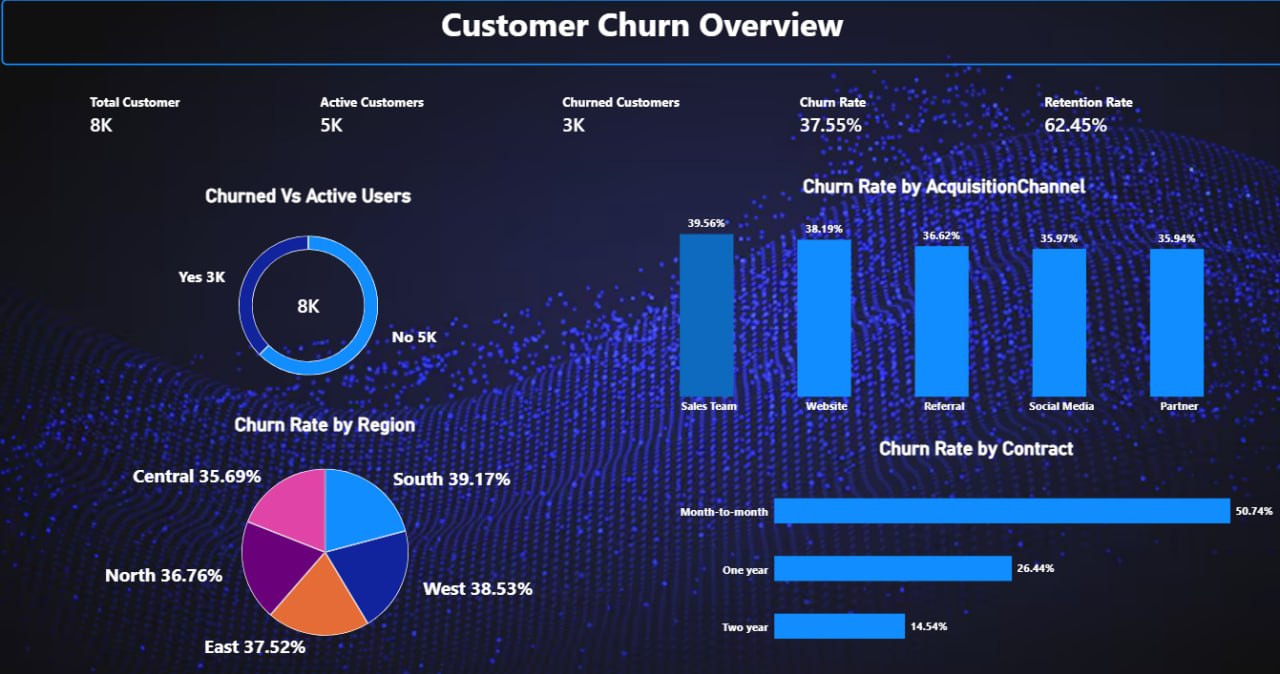

This screenshot's page, from the dashboard's own definition file:
{"tool":"powerbi","page":{"name":"Page 1","canvas":[1900,1008],"ordinal":0},"visuals":[{"type":"textbox","box":[10.4,0,1890,97.8],"z":0},{"type":"cardVisual","fields":{"Data":["DateTable.Total Customer"]},"box":[124.9,96.8,209.2,149.4],"z":1000},{"type":"cardVisual","fields":{"Data":["customer_churn_dataset.Active Customers"]},"box":[464.5,96.8,209,150],"z":2000},{"type":"cardVisual","fields":{"Data":["customer_churn_dataset.Churned Customers"]},"box":[821.7,96.8,209,150],"z":3000},{"type":"cardVisual","fields":{"Data":["customer_churn_dataset.Retention Rate"]},"box":[1530.8,96.8,209,150],"z":4000},{"type":"cardVisual","fields":{"Data":["customer_churn_dataset.Churn Rate"]},"box":[1170.1,96.8,209,150],"z":5000},{"type":"donutChart","title":"Churned Vs Active Users","fields":{"Category":["customer_churn_dataset.Churn"],"Y":["Count(customer_churn_dataset.CustomerID)"]},"box":[0,260.4,925.5,337.8],"z":6000},{"type":"barChart","fields":{"Category":["customer_churn_dataset.Contract"],"Y":["customer_churn_dataset.Churn Rate"]},"box":[992.4,633.5,907.9,366],"z":7000},{"type":"pieChart","fields":{"Category":["customer_churn_dataset.Region"],"Y":["customer_churn_dataset.Churn Rate"]},"box":[24.6,598.3,925.5,390.6],"z":8000},{"type":"columnChart","fields":{"Category":["customer_churn_dataset.AcquisitionChannel"],"Y":["customer_churn_dataset.Churn Rate"]},"box":[925.5,246.3,950.2,387.1],"z":9000}]}

Visuals, with their boxes in screenshot pixels (x1, y1, x2, y2), scaled from the page's 1900x1008 canvas onto the 1280x674 screenshot:
textbox: x1=7 y1=0 x2=1279 y2=65
cardVisual - DateTable.Total Customer: x1=84 y1=65 x2=225 y2=165
cardVisual - customer_churn_dataset.Active Customers: x1=313 y1=65 x2=454 y2=165
cardVisual - customer_churn_dataset.Churned Customers: x1=554 y1=65 x2=694 y2=165
cardVisual - customer_churn_dataset.Retention Rate: x1=1031 y1=65 x2=1172 y2=165
cardVisual - customer_churn_dataset.Churn Rate: x1=788 y1=65 x2=929 y2=165
"Churned Vs Active Users" donutChart: x1=0 y1=174 x2=623 y2=400
barChart - customer_churn_dataset.Contract x customer_churn_dataset.Churn Rate: x1=669 y1=424 x2=1279 y2=668
pieChart - customer_churn_dataset.Region x customer_churn_dataset.Churn Rate: x1=17 y1=400 x2=640 y2=661
columnChart - customer_churn_dataset.AcquisitionChannel x customer_churn_dataset.Churn Rate: x1=623 y1=165 x2=1264 y2=424
